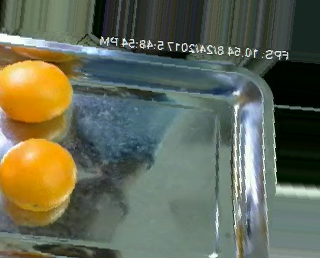Orange: (1, 138, 77, 211), (1, 59, 73, 122)
